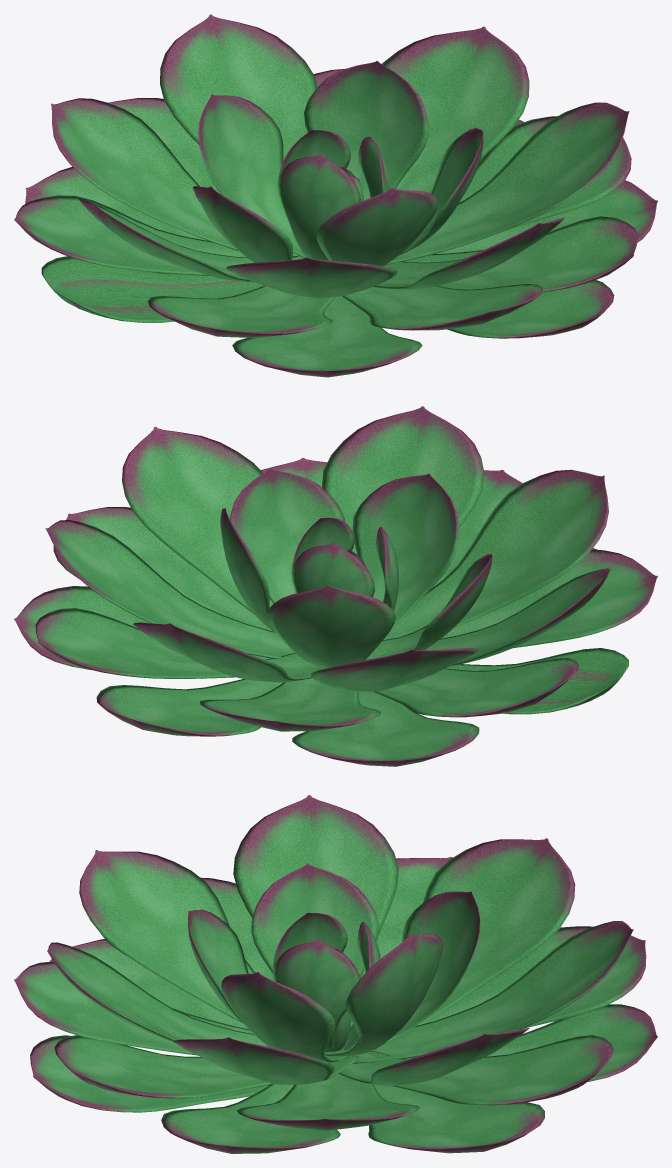
The model's file is low_poly_purple_echeveria.glb.
3 renders of one model, top to bottom at view 1: azimuth 30°, elevation 25°; view 2: azimuth 150°, elevation 25°; view 3: azimuth 270°, elevation 25°, orthographic.
Parts seen in each view (by area): view 1: Purple Echeveria_PurpleEcheveria _0; view 2: Purple Echeveria_PurpleEcheveria _0; view 3: Purple Echeveria_PurpleEcheveria _0.
Boxes of the visible parts, box(x1,y1,x2,y2) form: Purple Echeveria_PurpleEcheveria _0: box(14, 14, 657, 377); Purple Echeveria_PurpleEcheveria _0: box(14, 406, 657, 766); Purple Echeveria_PurpleEcheveria _0: box(14, 795, 657, 1153).
Size of the model in its own units: 74.99 by 23 by 74.44.
1 material, 1 textured.
